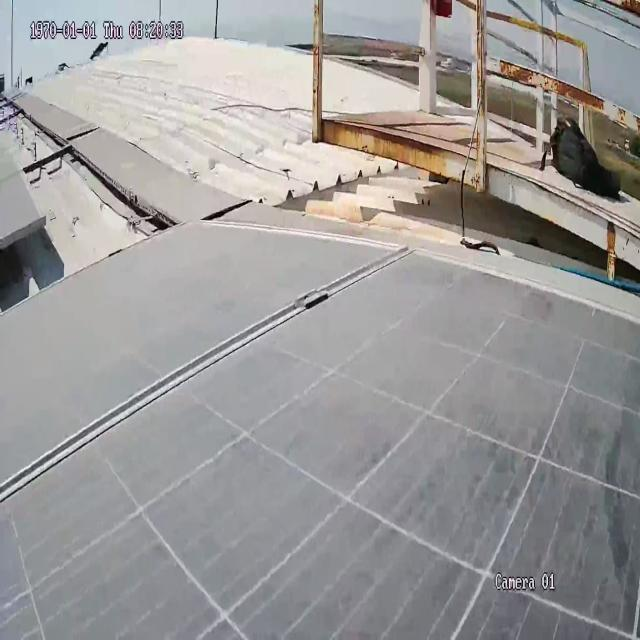interior panel: (0, 235, 441, 524)
outher panel: (0, 0, 640, 282)
